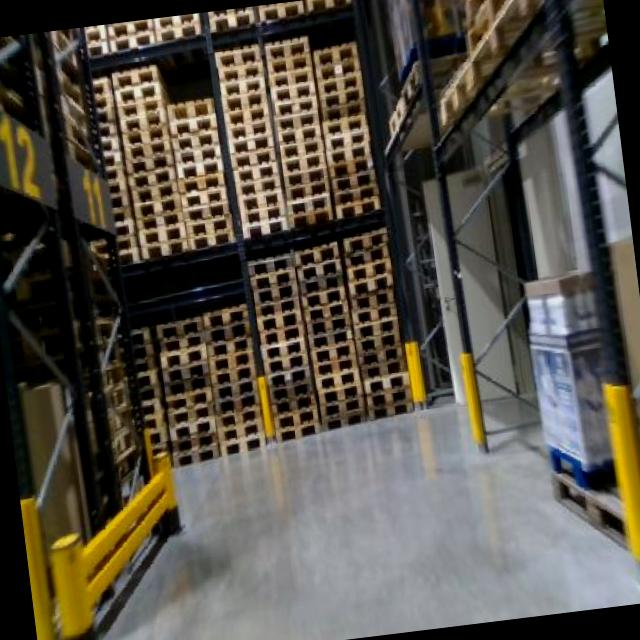pallet: (84, 0, 416, 459)
